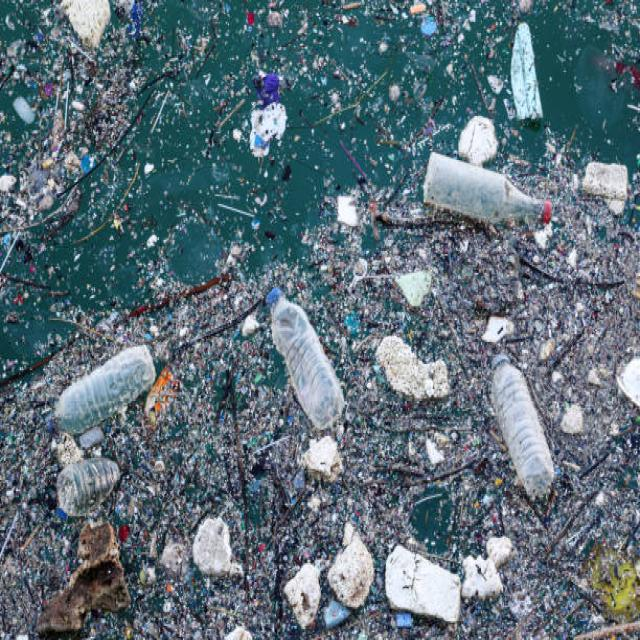garbage: (2, 7, 191, 240), (199, 472, 445, 632), (475, 336, 595, 567), (41, 322, 170, 524), (401, 122, 560, 250), (246, 254, 348, 440), (234, 43, 330, 179)
